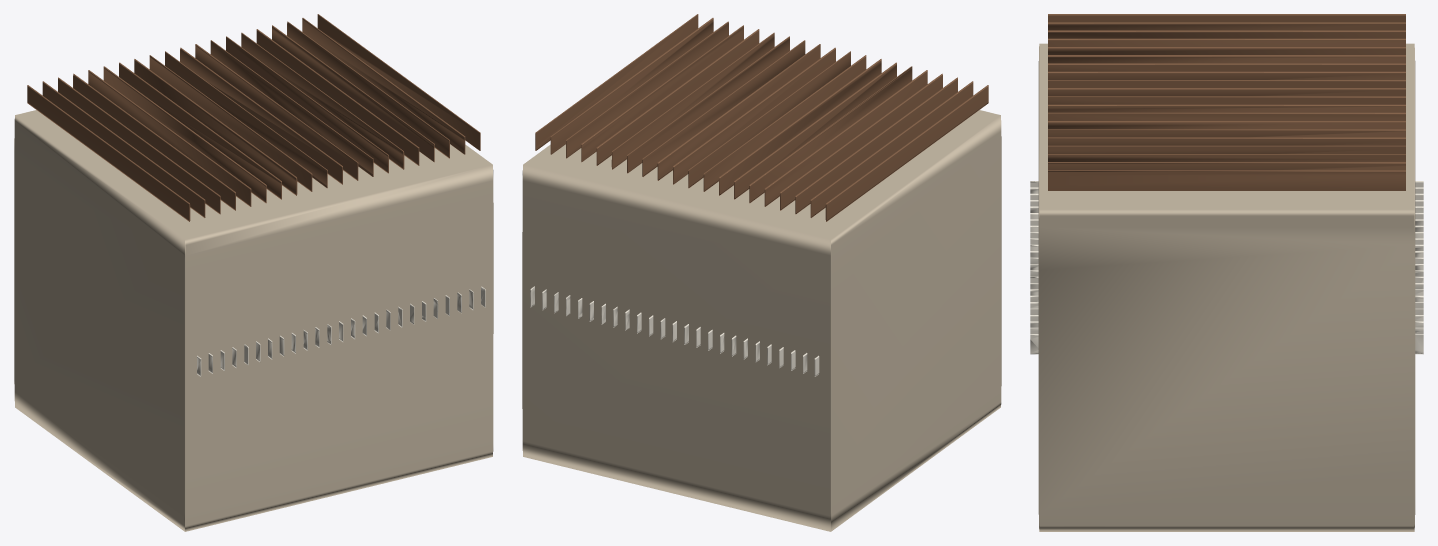
File: rug-15-3.lod.glb
3 renders of one model, left to right at view 1: azimuth 30°, elevation 25°; view 2: azimuth 150°, elevation 25°; view 3: azimuth 270°, elevation 25°, orthographic. The views are drawn at different scales.
Parts seen in each view (by area): view 1: woven-rug, upholstery, rug-fringe; view 2: woven-rug, upholstery, rug-fringe; view 3: woven-rug, upholstery, rug-fringe.
Boxes of the visible parts, x1=… form: woven-rug: x1=14, y1=110, x2=493, y2=531; upholstery: x1=27, y1=14, x2=480, y2=221; rug-fringe: x1=197, y1=286, x2=485, y2=376; woven-rug: x1=522, y1=110, x2=1001, y2=531; upholstery: x1=535, y1=14, x2=988, y2=221; rug-fringe: x1=530, y1=286, x2=819, y2=376; woven-rug: x1=1038, y1=43, x2=1415, y2=531; upholstery: x1=1048, y1=14, x2=1405, y2=190; rug-fringe: x1=1030, y1=181, x2=1423, y2=354.
Size of the model in its own units: 1 by 1 by 1.
